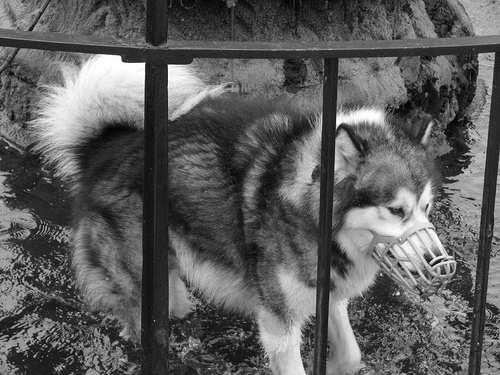dog: (29, 38, 458, 374)
